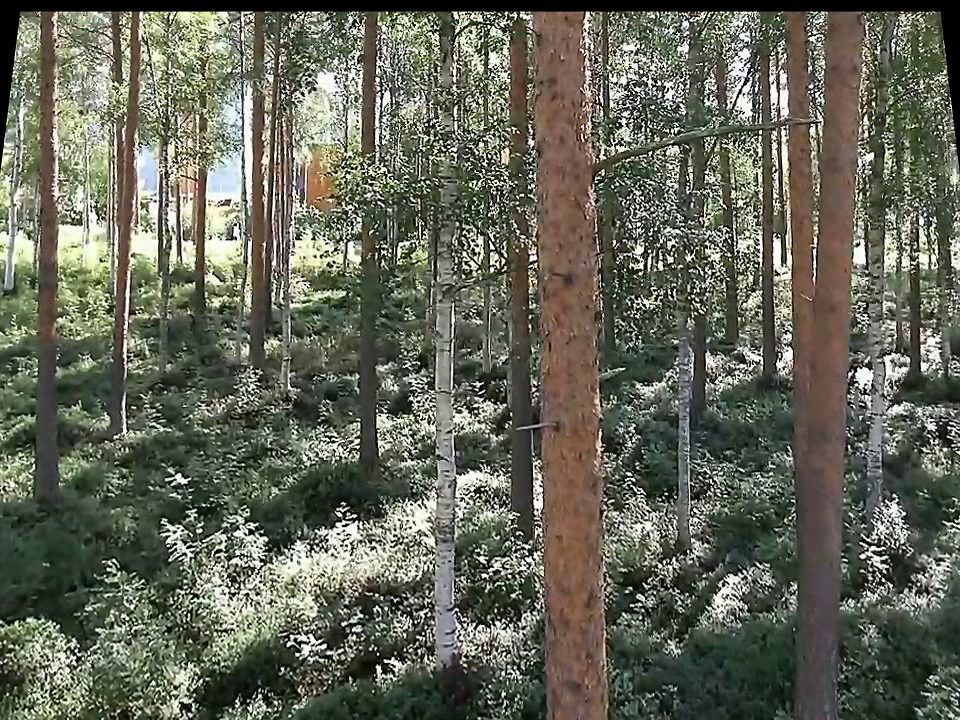branch: (598, 105, 817, 174)
trunk: (515, 18, 627, 701), (775, 32, 864, 715), (415, 32, 480, 674), (348, 19, 394, 473), (236, 14, 292, 376), (99, 19, 139, 440), (31, 16, 64, 509), (187, 96, 211, 325)
